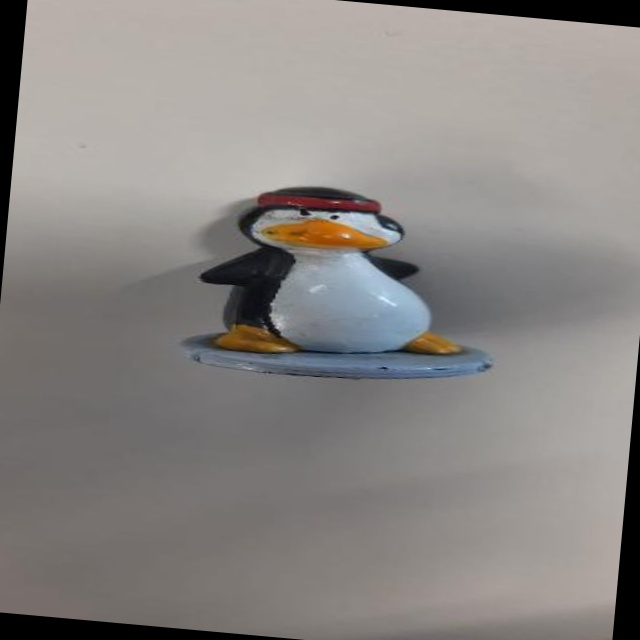Penguin: (171, 170, 513, 400)
